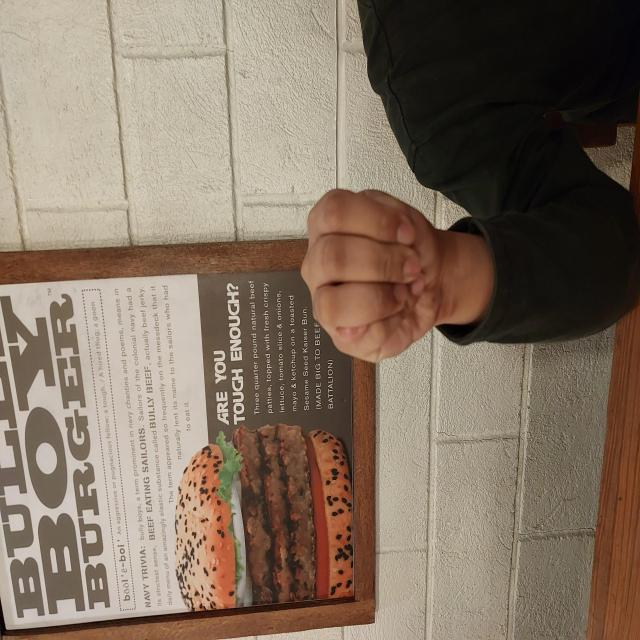M: (274, 299, 454, 446)
